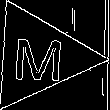M_N: (11, 30, 66, 83)
